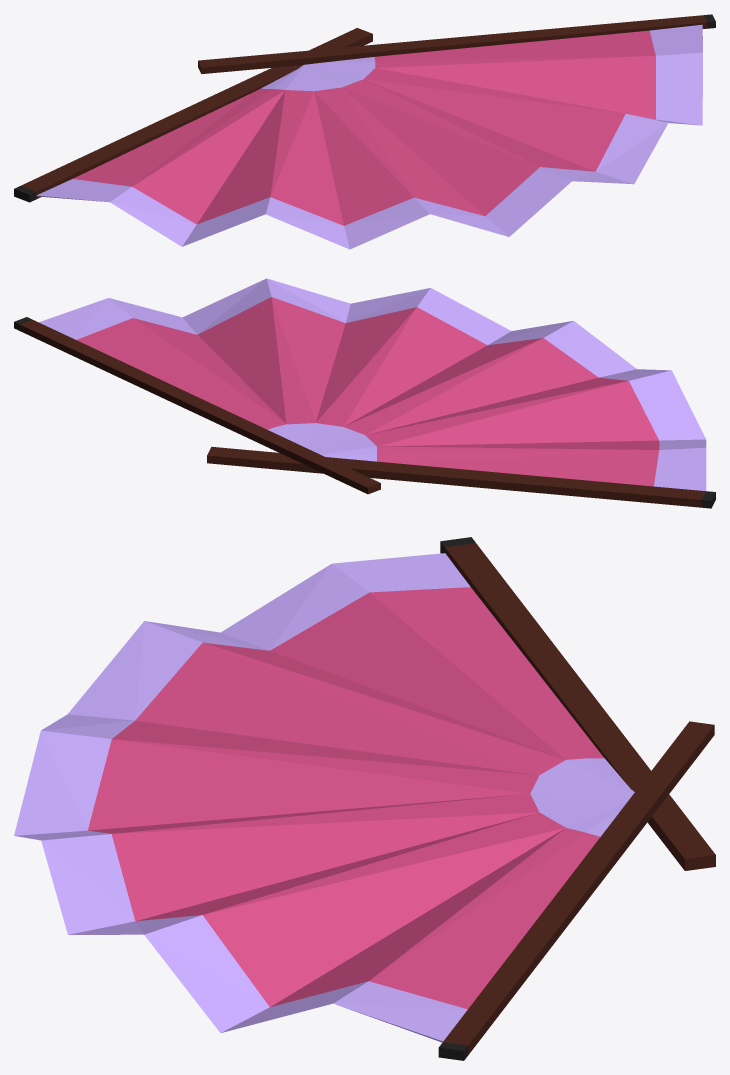
File: Fan_3  Asia.fbx
The picture shows the model from 3 angles, top to bottom: view 1: azimuth 30°, elevation 25°; view 2: azimuth 150°, elevation 25°; view 3: azimuth 270°, elevation 25°; orthographic projection. The views are drawn at different scales.
Visible parts, largest first — view 1: Fan_3; view 2: Fan_3; view 3: Fan_3.
Boxes of the visible parts, left/top/right/bottom form: Fan_3: left=14, top=14, right=715, bottom=249; Fan_3: left=14, top=278, right=715, bottom=508; Fan_3: left=14, top=537, right=715, bottom=1060.
Size of the model in its own units: 0.3313 by 0.0195 by 0.1876.
